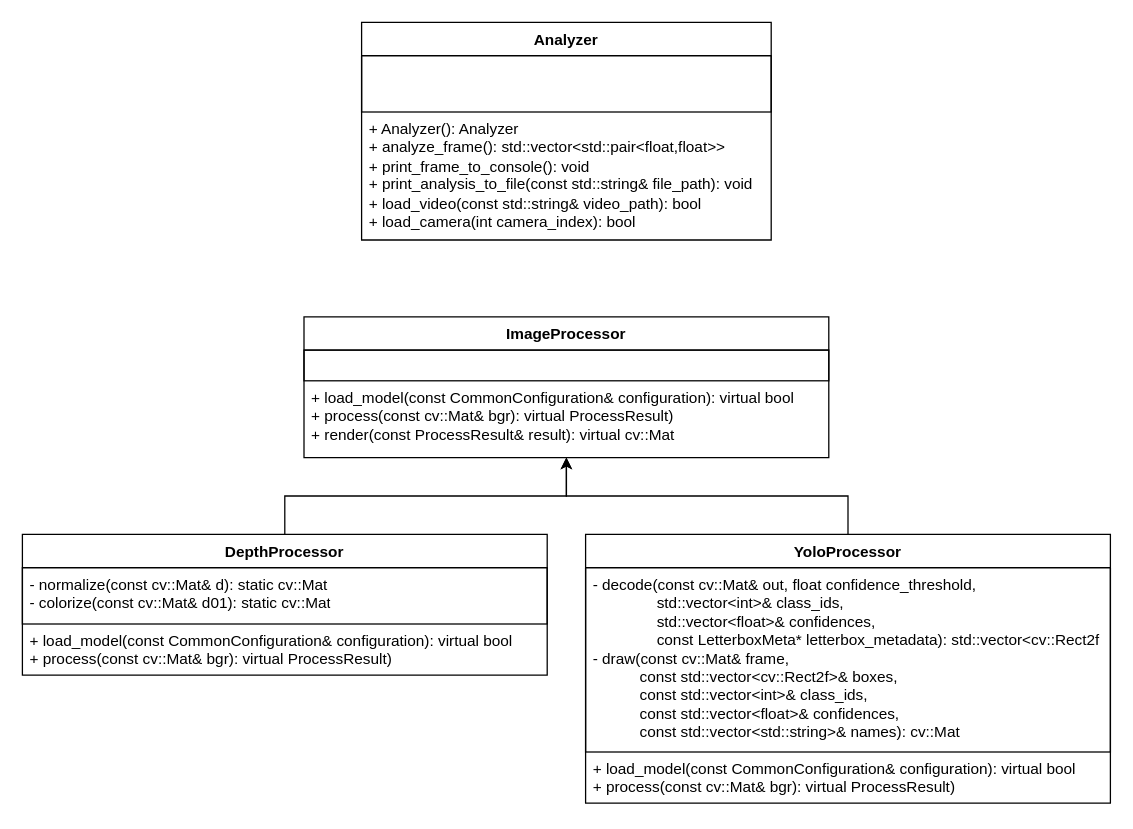
Image size: 1133x829. Some labels were removed from this diagram. Here are the shapes that lost their labels. From the top down, the centre of each, then its label:
(565,83): - yolo_processor_: YoloProcessor - depth_processor_: DepthProcessor
(566,365): - set_backend(cv::dnn::Net& net, bool prefer_cuda): static void
